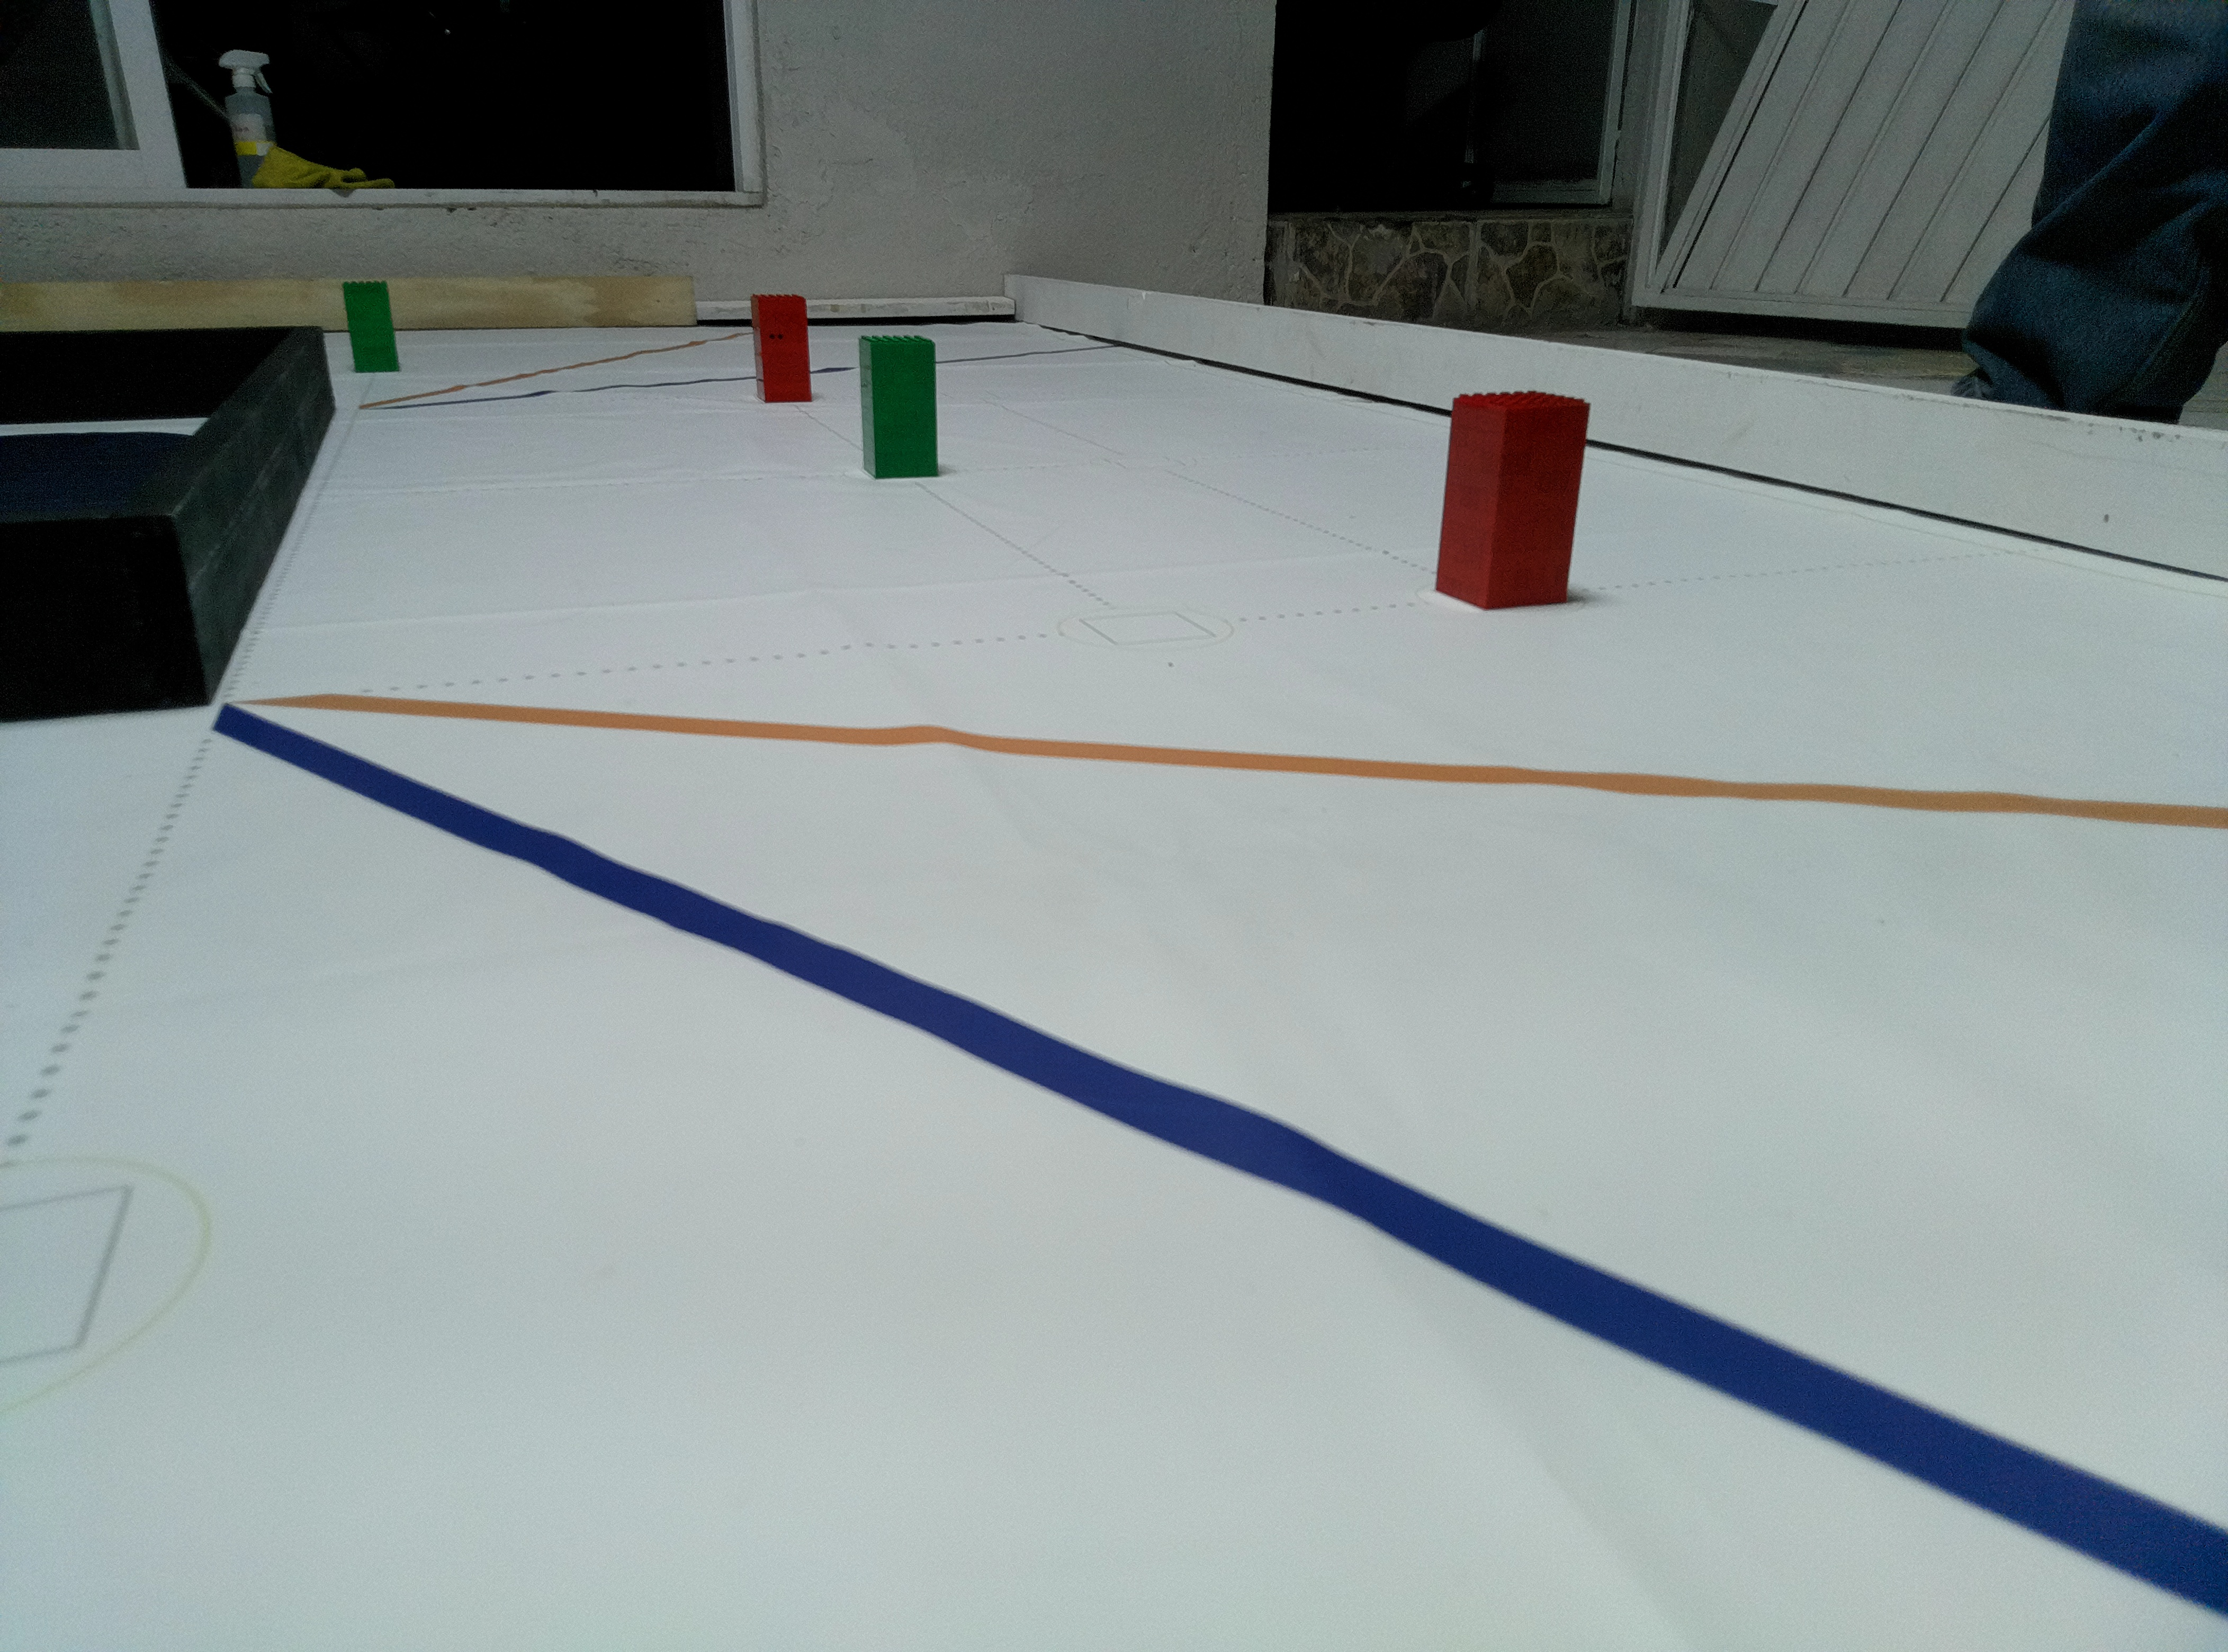greenbox: (854, 330, 942, 481), (338, 281, 406, 375)
redbox: (1438, 382, 1589, 613), (748, 293, 814, 406)
